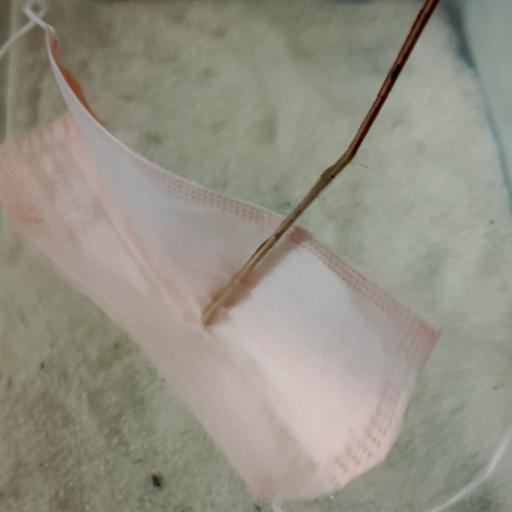mask: (2, 2, 436, 500)
